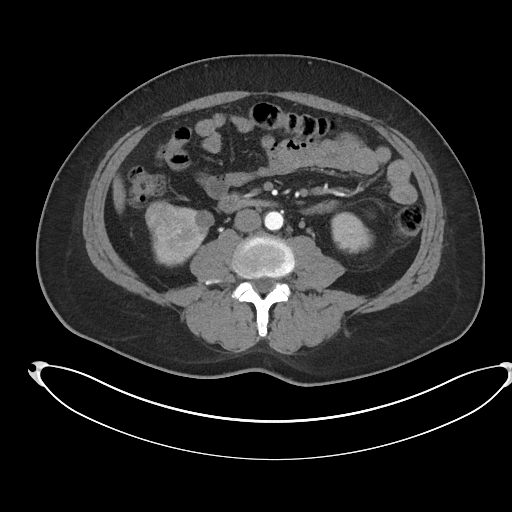Lesion: (144, 198, 180, 238)
